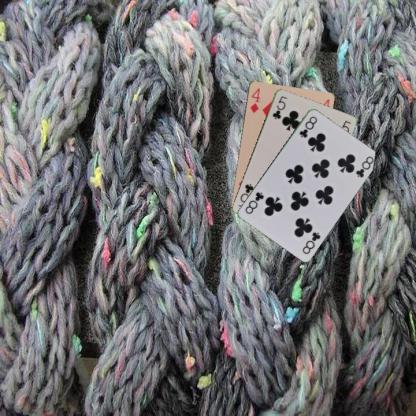4d: (247, 85, 261, 114)
5c: (270, 93, 288, 120)
8c: (296, 113, 318, 139), (300, 229, 322, 255)
